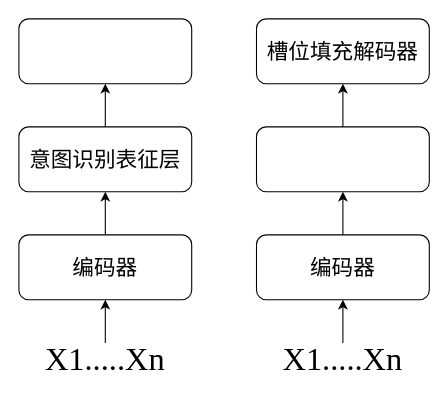
Some shapes in this 448 by 397 pixel diagram are drawn without their labels. Here are the shapes that lost their labels. From the top down, the centre of each, then its label:
At point (105, 51): "意图识别解码器".
At point (342, 159): "槽位填充表征层".
